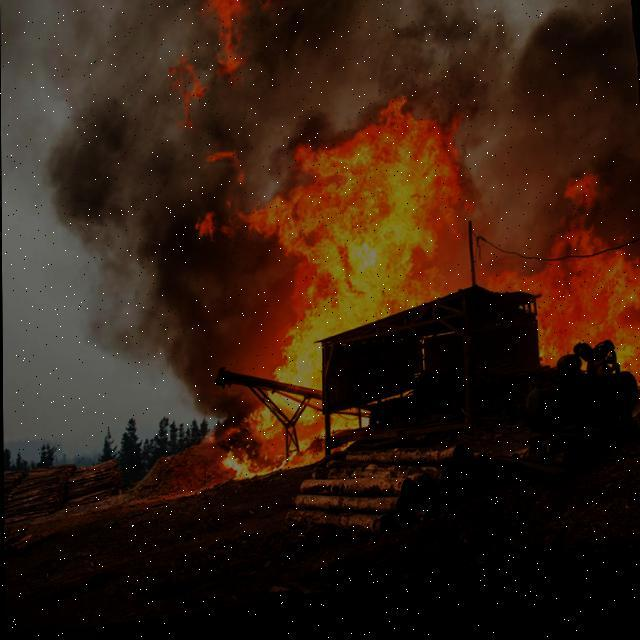Fire: (172, 101, 470, 457), (480, 158, 639, 422), (160, 0, 314, 144), (224, 446, 326, 486)
